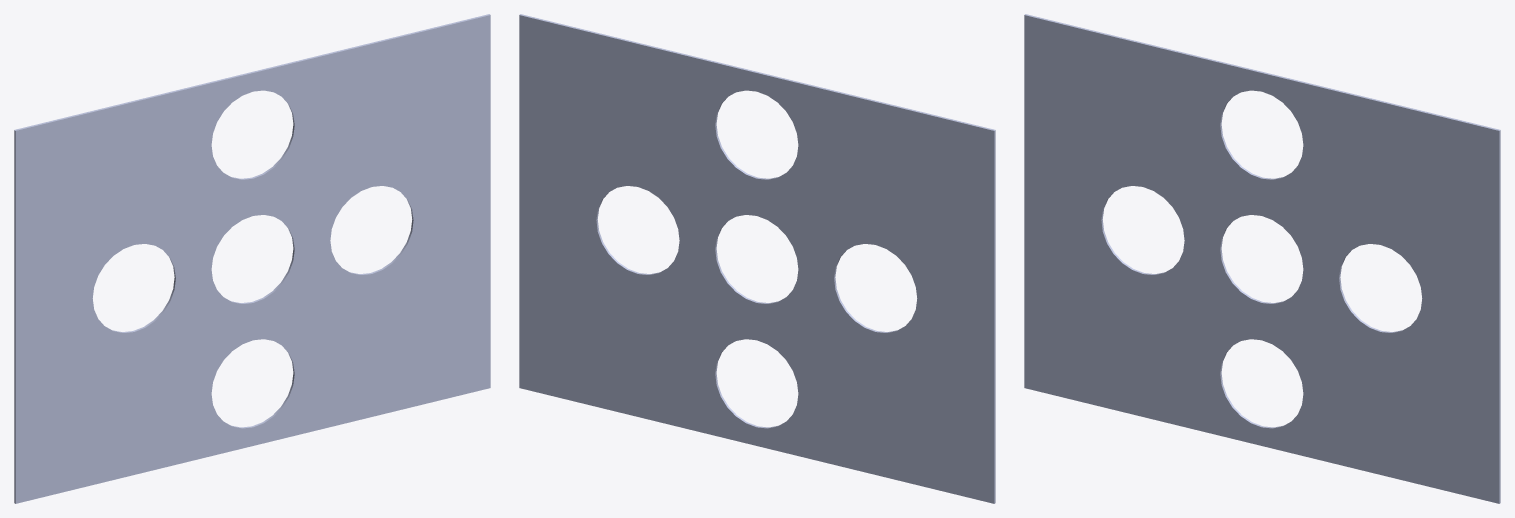
File: exposed_plate.dae
3 renders of one model, left to right at view 1: azimuth 30°, elevation 25°; view 2: azimuth 150°, elevation 25°; view 3: azimuth 330°, elevation 25°, orthographic.
Visible parts, largest first — view 1: Body_1; view 2: Body_1; view 3: Body_1.
Boxes of the visible parts, left/top/right/bottom form: Body_1: left=14, top=14, right=490, bottom=503; Body_1: left=519, top=14, right=995, bottom=503; Body_1: left=1024, top=14, right=1500, bottom=503.
Bounding box in the file's own units: 0.0508 × 0.000254 × 0.0381.
